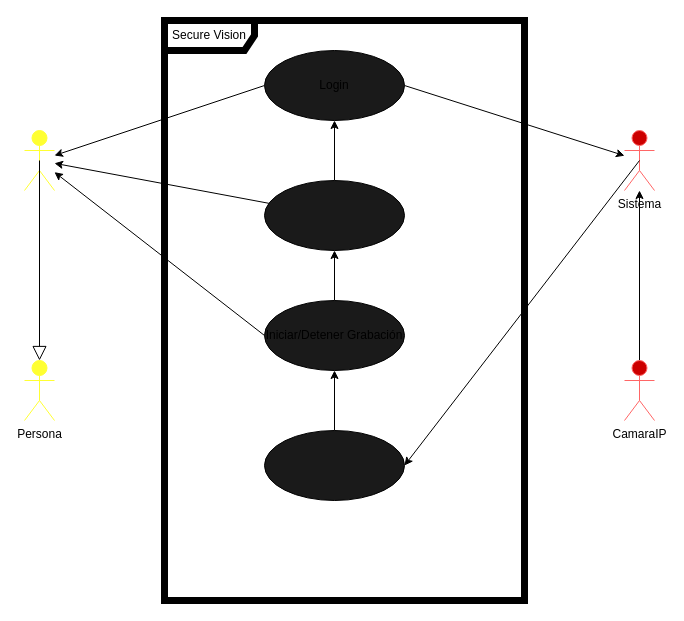
This 684x621 diagram has some shape labels left out. Here are the shapes that lost their labels. From the top down, the centre of each, then its label:
At pixel 39 160: "Usuario".
At pixel 334 215: "Registro Grabaciones".
At pixel 334 465: "Monitorear casa".
